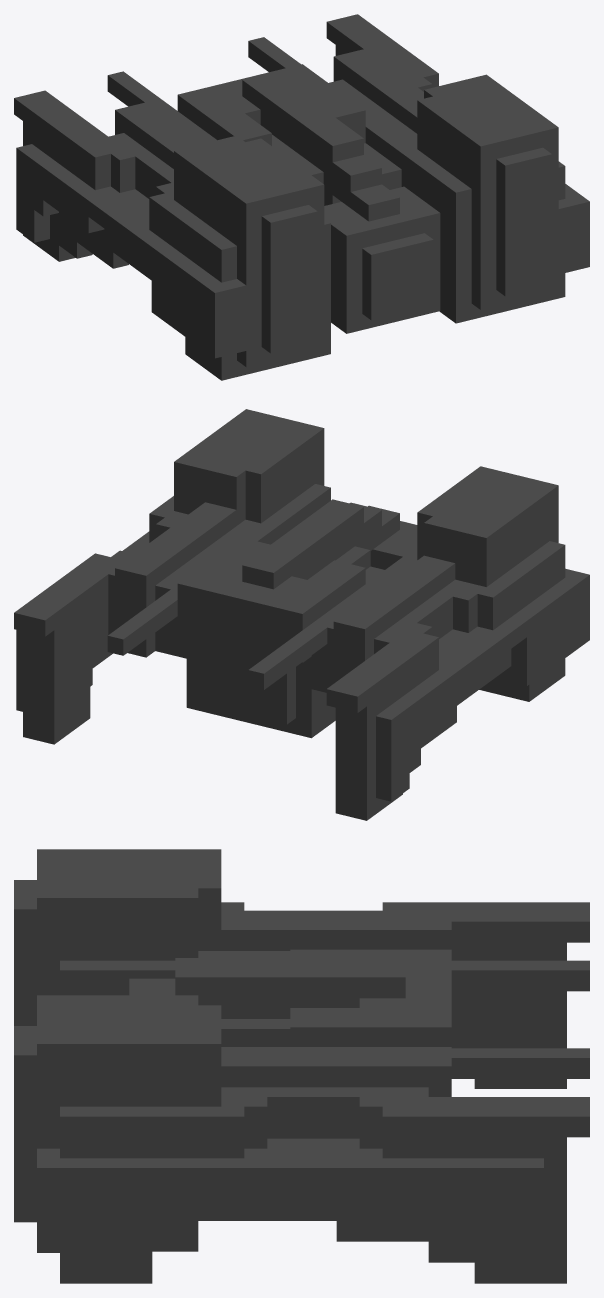
Rendered from hovership.obj.
The picture shows the model from 3 angles, top to bottom: view 1: azimuth 30°, elevation 25°; view 2: azimuth 150°, elevation 25°; view 3: azimuth 270°, elevation 25°; orthographic projection. The views are drawn at different scales.
Size of the model in its own units: 24 by 11 by 25.
1 material, 1 textured.
